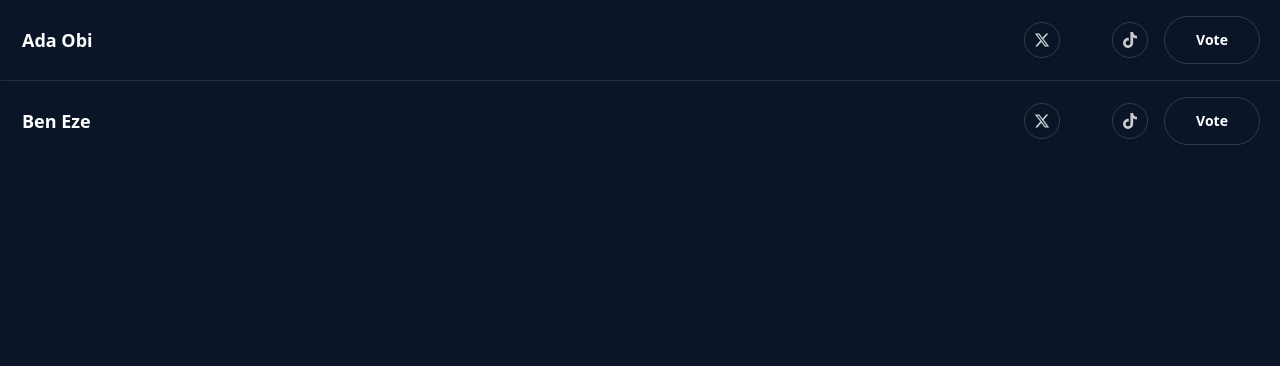
Test: BallotRow › marks the row the server names, not the row the code was typed into
This screenshot has width=1280, height=366.
Click the button with aria-label "Vote for Ada Obi" at (1212,40), box [1164,16,1260,64]
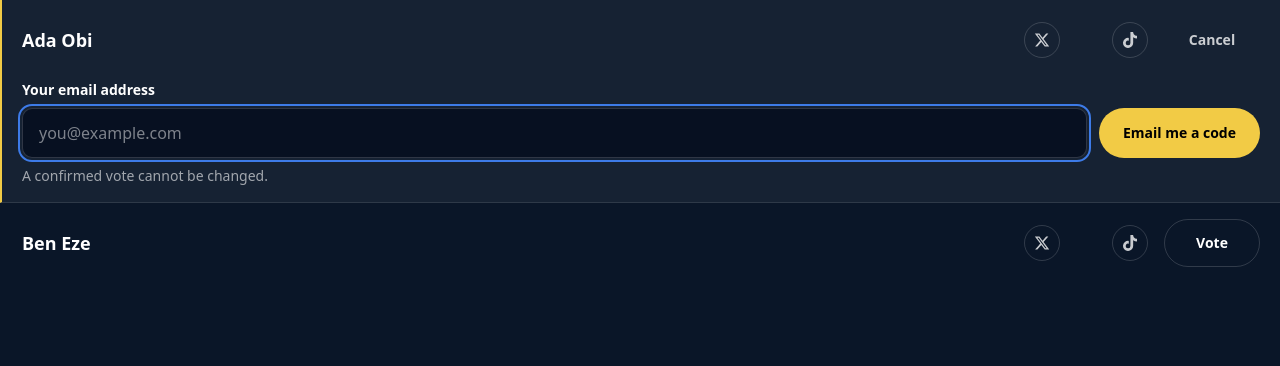
Type "ada@example.com" into the field labelled "Your email address" at (554,133), box [22,108,1087,158]
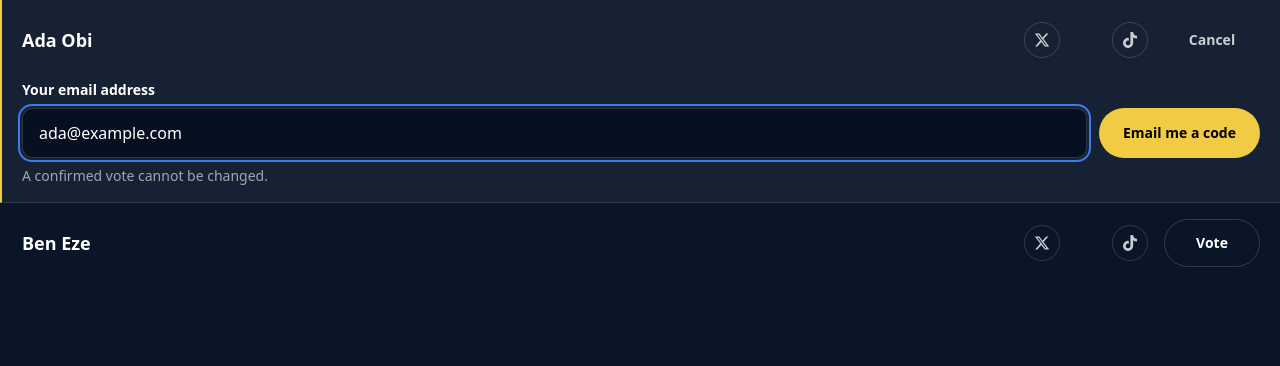
Click the button "Email me a code" at (1180,133), box [1099,108,1260,158]
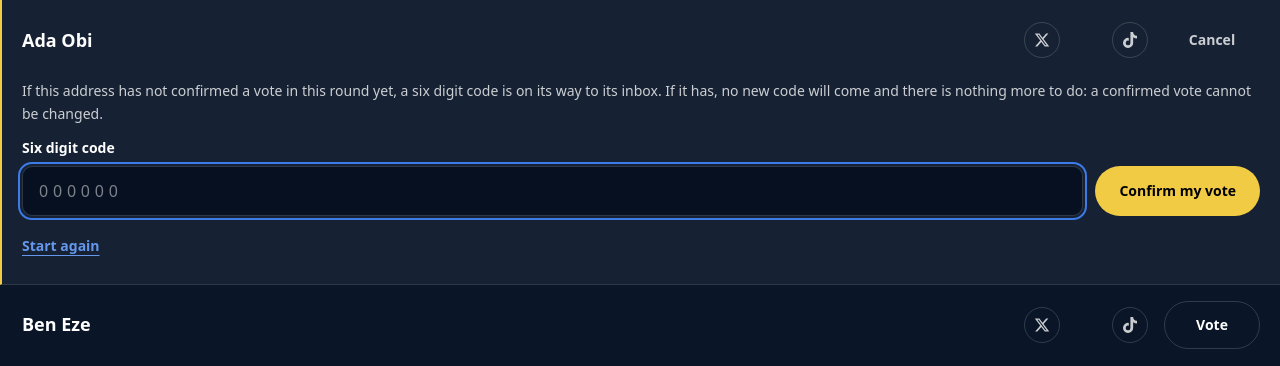
Type "123456" into the field labelled "Six digit code" at (553,190), box [22,166,1083,216]
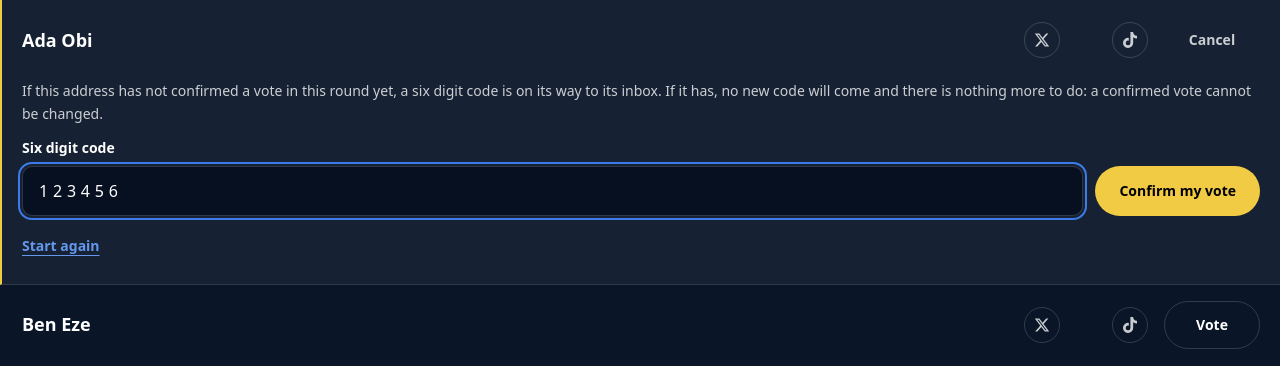
Click the button "Confirm my vote" at (1178,190), box [1095,166,1260,216]
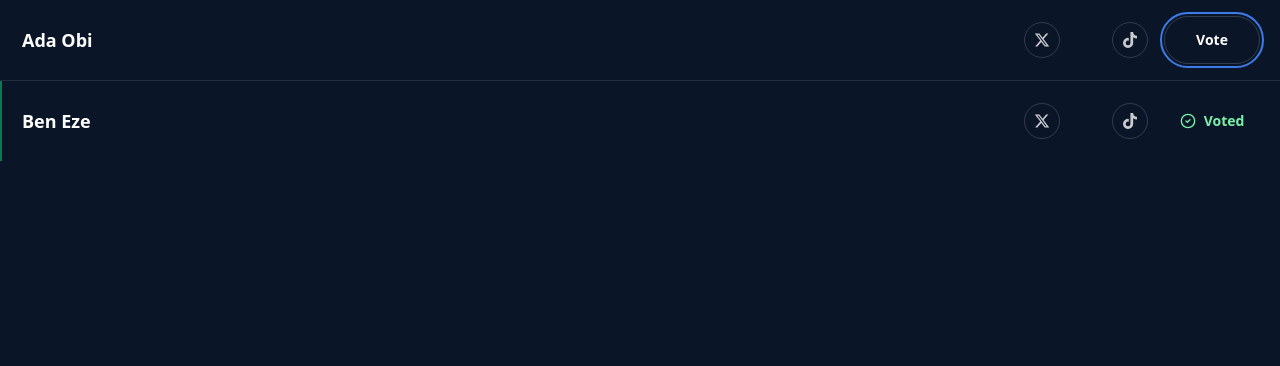
Expected: the list item "Voted" shows "Ben Eze", [22,109,91,133]
Now the button with aria-label "Vote for Ada Obi" is shown, box [1164,16,1260,64]
